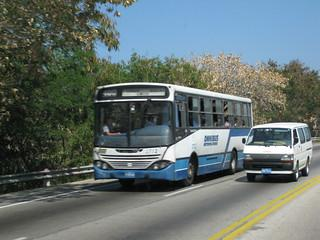bus: (91, 85, 255, 188)
car: (246, 121, 313, 182)
